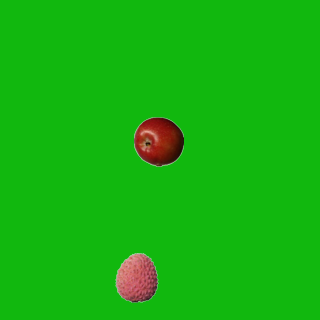Apple Braeburn: (133, 116, 183, 166)
Lychee: (111, 252, 161, 302)
